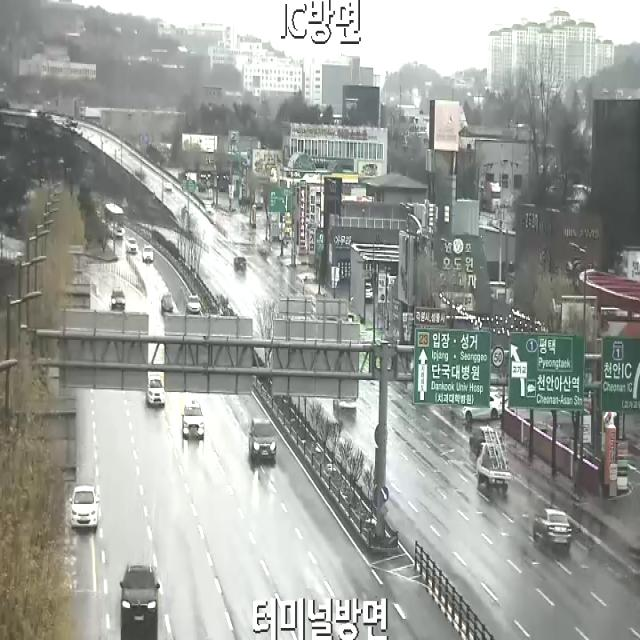Bus: (104, 203, 124, 237)
Car: (120, 564, 160, 622), (462, 392, 508, 423), (69, 485, 99, 527), (534, 510, 571, 544), (249, 420, 276, 460), (181, 404, 204, 436), (147, 376, 165, 404), (111, 288, 125, 310), (333, 398, 356, 409), (188, 296, 200, 313), (127, 239, 138, 255), (162, 295, 172, 312), (143, 245, 153, 262), (234, 257, 246, 270), (366, 283, 372, 300), (164, 182, 173, 192), (206, 202, 212, 212)
Truck: (476, 442, 512, 486)
